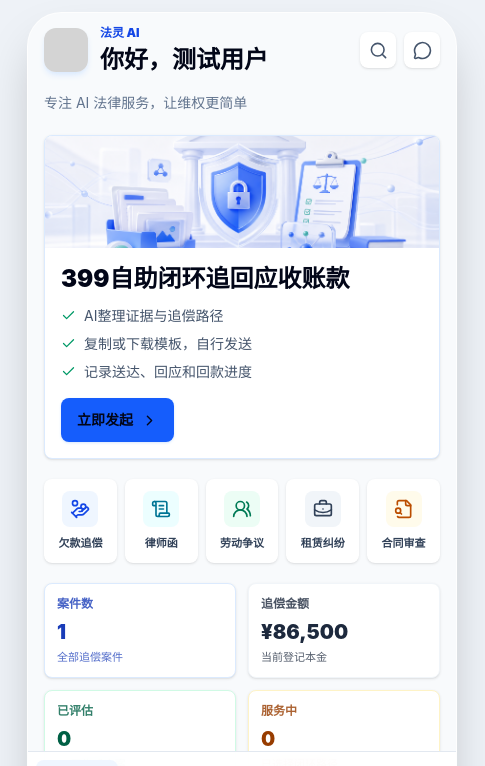
Test: App › opens a typed new case page from a non-debt entry
Click the button "劳动争议".
click(242, 521)  # box [206,479,278,563]
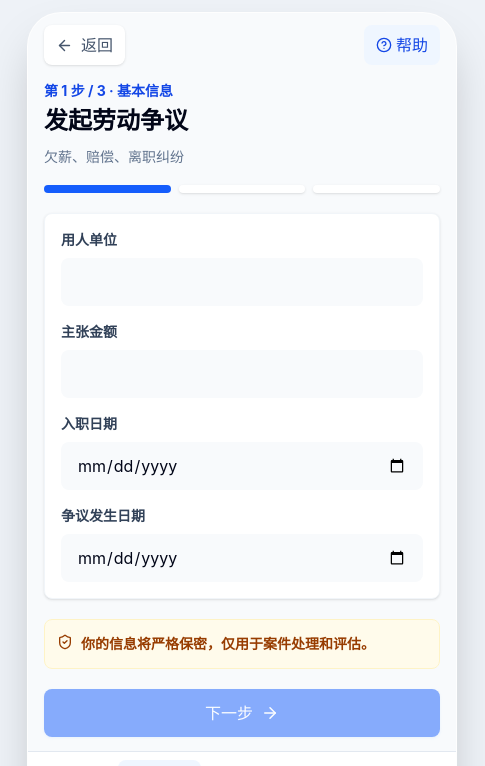
Expected: the heading "发起劳动争议" is shown, [44,106,188,135]
